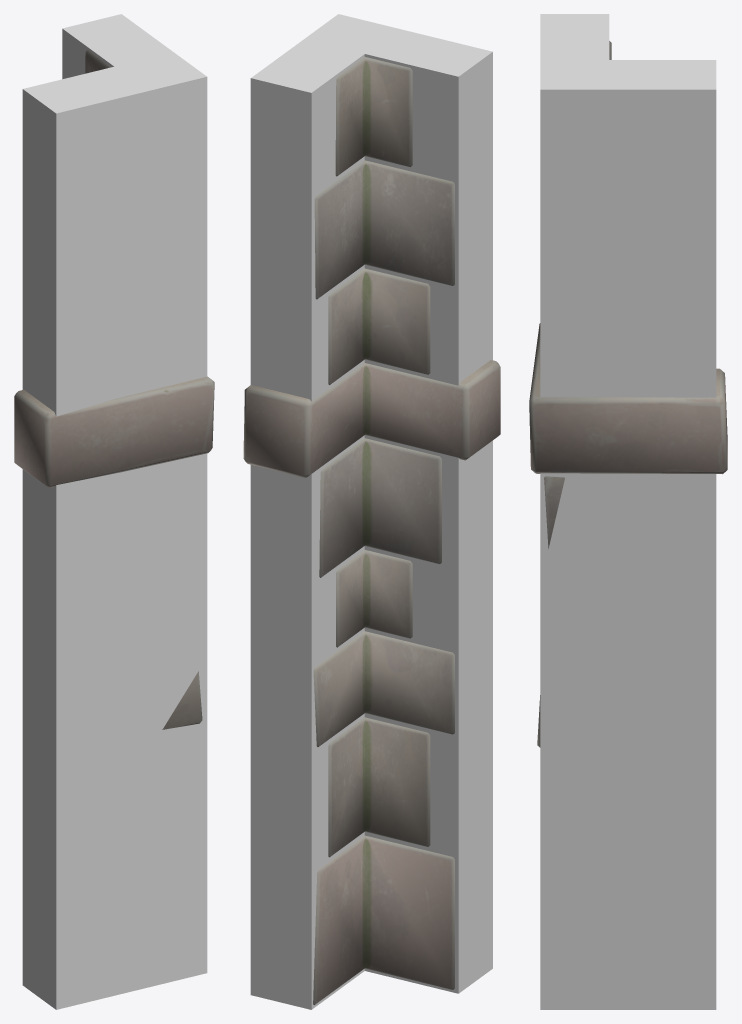
File: Wall_Edge_1.fbx
The picture shows the model from 3 angles, left to right: view 1: azimuth 30°, elevation 25°; view 2: azimuth 150°, elevation 25°; view 3: azimuth 270°, elevation 25°; orthographic projection. The views are drawn at different scales.
Visible parts, largest first — view 1: Wall_Edge_1_COL0, Wall_Edge_1_LOD0; view 2: Wall_Edge_1_COL0, Wall_Edge_1_LOD0; view 3: Wall_Edge_1_COL0, Wall_Edge_1_LOD0.
Boxes of the visible parts, x1,y1,x2,y2 form: Wall_Edge_1_COL0: (22, 14, 207, 1009); Wall_Edge_1_LOD0: (14, 50, 214, 729); Wall_Edge_1_COL0: (250, 14, 492, 1009); Wall_Edge_1_LOD0: (243, 57, 500, 1004); Wall_Edge_1_COL0: (540, 14, 716, 1009); Wall_Edge_1_LOD0: (529, 41, 727, 747).
Size of what is drawn, in the model's own units: 57.92 by 301 by 58.77.
